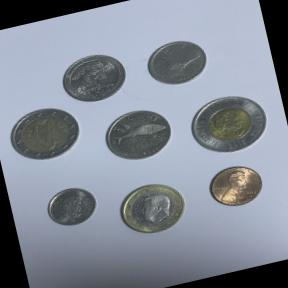1 Euro-B: (108, 170, 199, 246)
2 Euro-B: (2, 98, 87, 169)
Canada-10cent-B: (38, 177, 104, 235)
Canada-2Dollar-B: (176, 78, 279, 168)
Croatia-2Kune-B: (94, 97, 182, 173)
US-1cent-B: (198, 154, 272, 216)
US-25cent-B: (55, 45, 134, 110)
